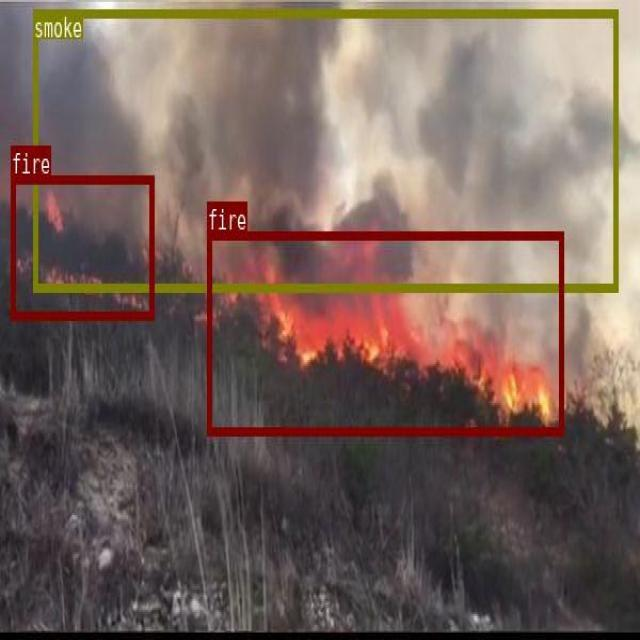fire: (207, 230, 562, 434), (10, 175, 153, 319)
smoke: (33, 8, 617, 290)
